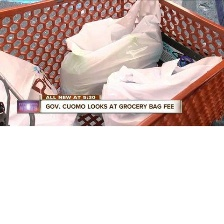plastic_bag: (52, 0, 165, 106), (95, 52, 224, 126), (0, 43, 83, 126)
